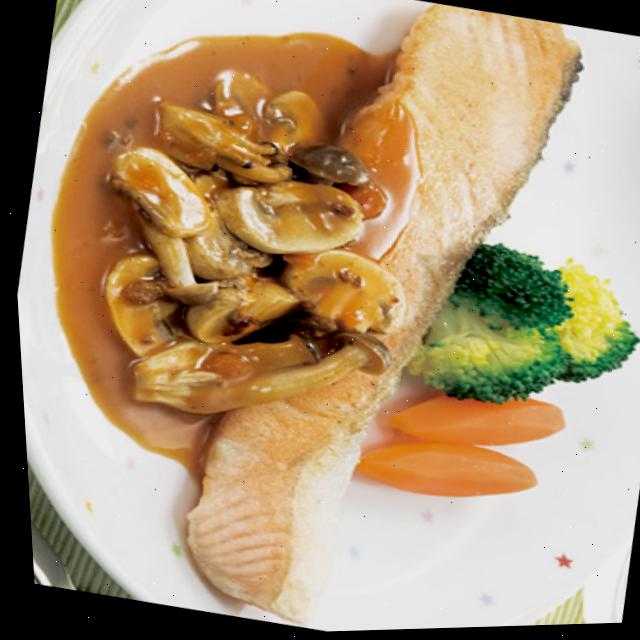熟制海鲜: (113, 0, 624, 637)
